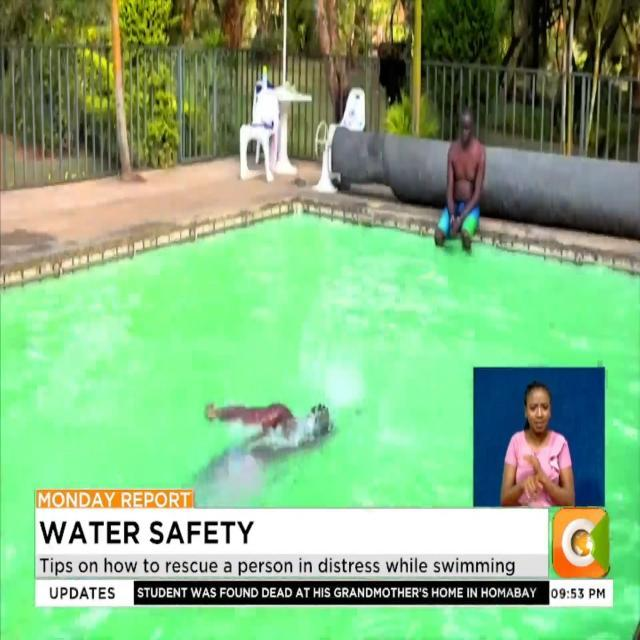out of water: (431, 107, 498, 264)
swimming: (167, 369, 350, 490)
